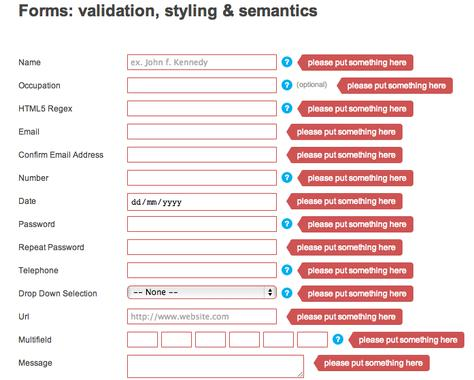error_field: (127, 354, 305, 379), (126, 53, 277, 72), (125, 307, 276, 326), (125, 261, 276, 280), (126, 237, 277, 256), (126, 214, 277, 233), (126, 192, 277, 211), (125, 168, 276, 187), (126, 146, 277, 165), (126, 122, 277, 141), (126, 99, 277, 118), (126, 76, 277, 95), (126, 283, 276, 300), (228, 331, 260, 349), (127, 331, 158, 347), (161, 331, 192, 347), (195, 331, 226, 347), (263, 331, 294, 347), (297, 331, 328, 347)
error_message: (305, 56, 409, 68), (346, 79, 450, 91), (304, 102, 408, 114), (293, 126, 397, 138), (293, 149, 397, 161), (304, 172, 408, 184), (294, 195, 398, 207), (303, 217, 407, 229), (293, 241, 397, 253), (303, 264, 407, 276), (303, 287, 407, 299), (320, 356, 424, 368), (293, 310, 397, 322), (355, 333, 459, 345)
